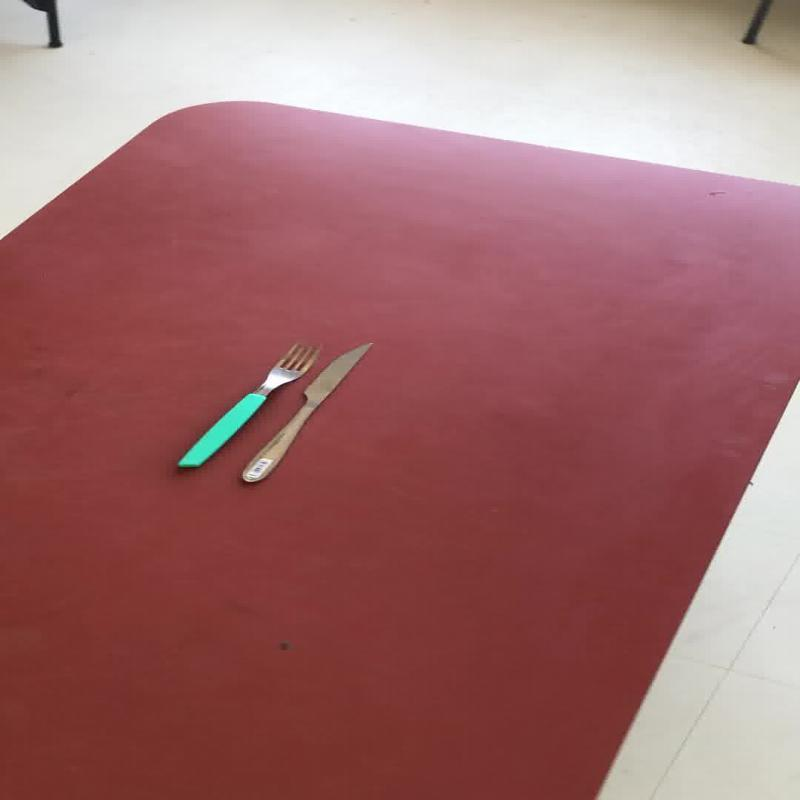fork: (175, 342, 320, 468)
knife: (239, 341, 373, 483)
